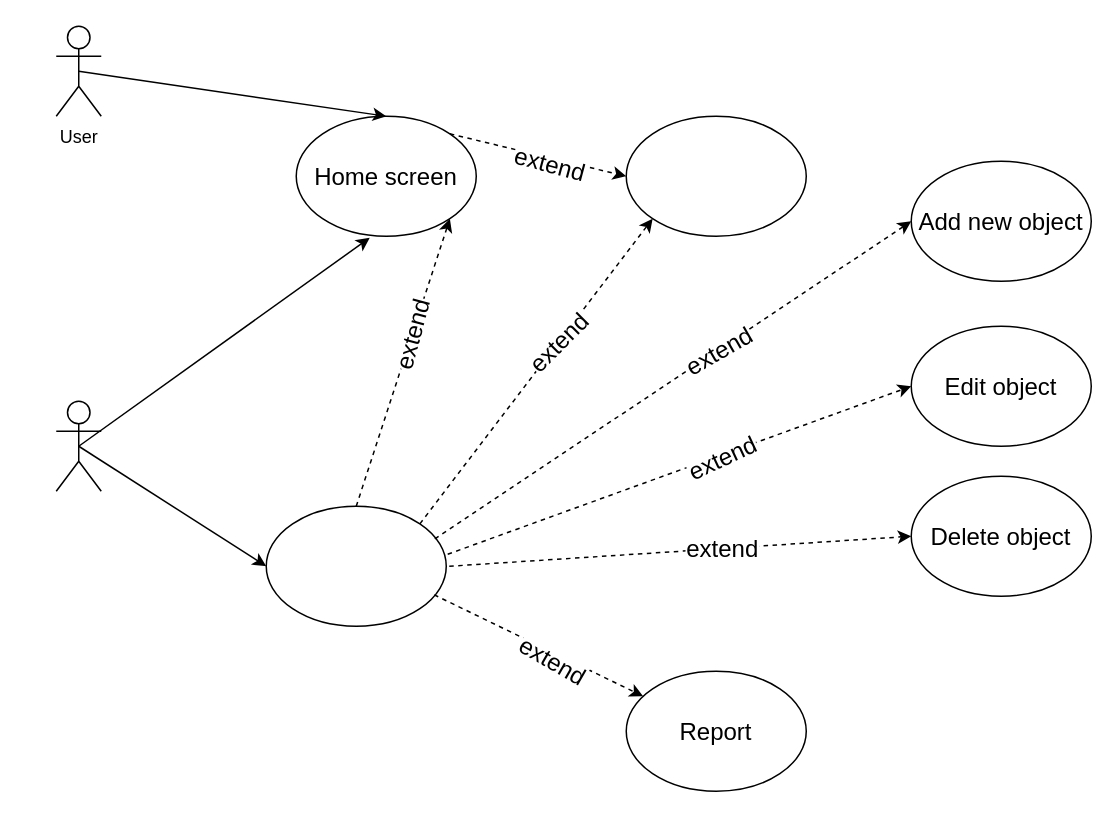
The diagram is 1118 pixels wide and 818 high, and some of its shapes have lost their labels. The shapes that lost their labels are listed below. From the top down, each one's centre as x and y in pixels, then its label:
At point 715,175: "Object Database".
At point 78,445: "Administrator".
At point 355,565: "Login".
